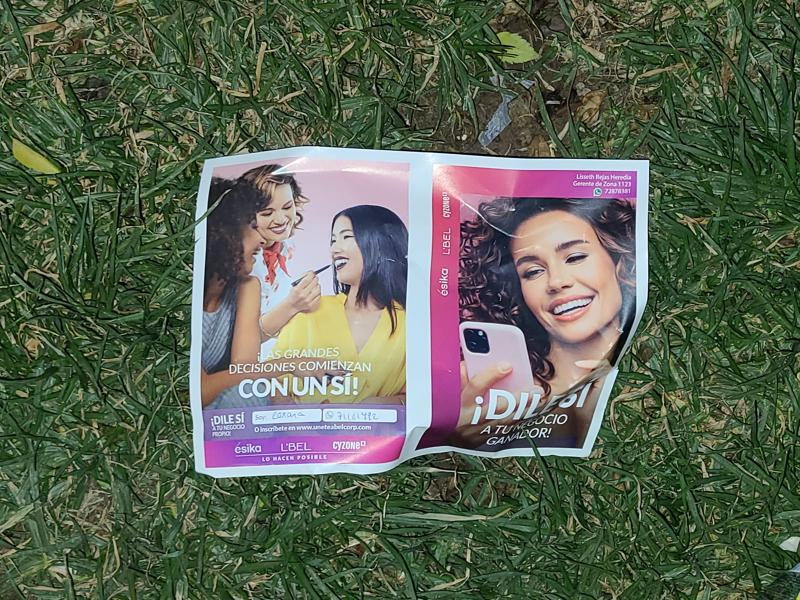papel: (188, 148, 652, 482)
